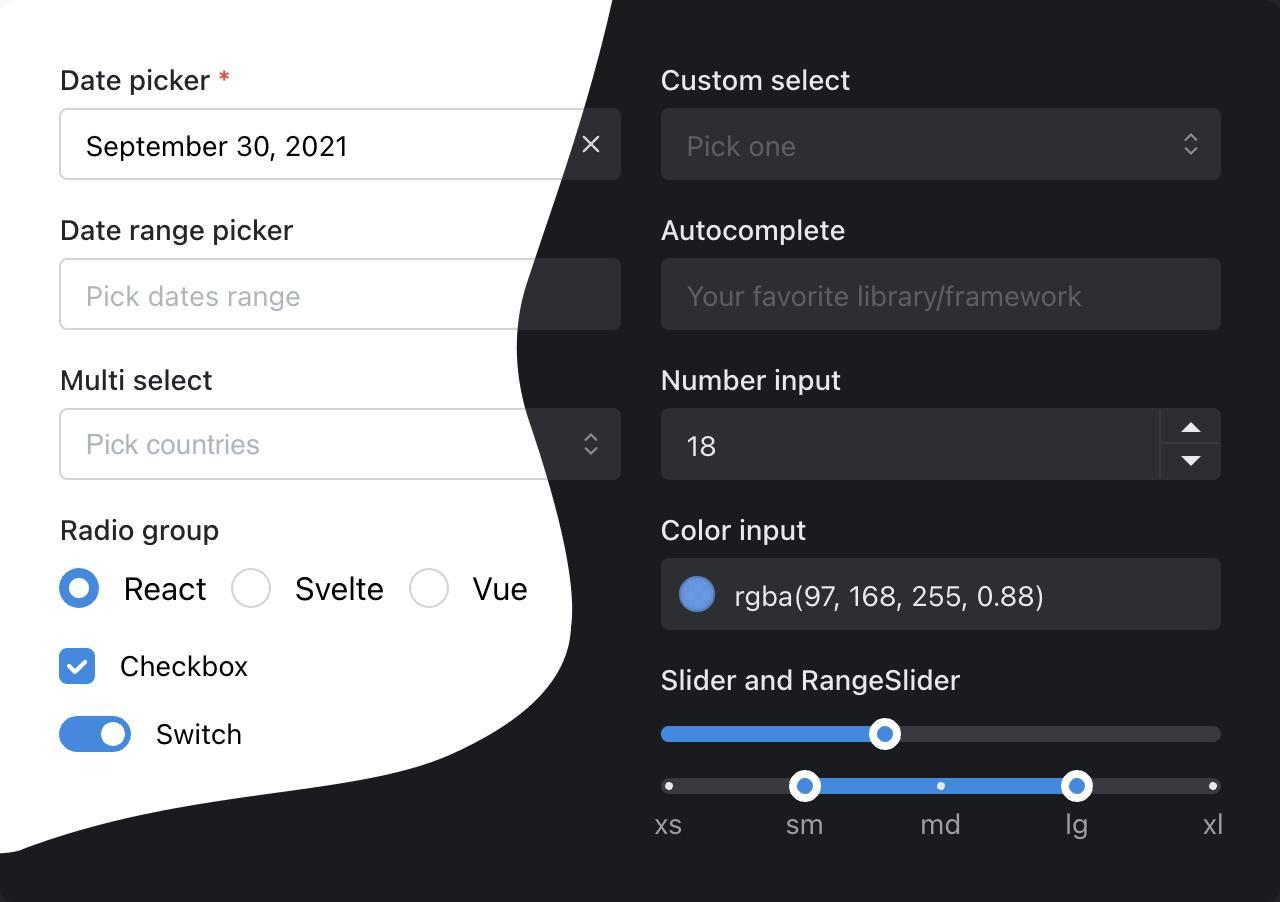button: (1165, 446, 1227, 482), (1164, 410, 1227, 444)
checkbox: (59, 649, 98, 686)
dropdown: (57, 405, 624, 484), (664, 104, 1220, 183)
input: (64, 111, 620, 185), (61, 260, 617, 332), (662, 265, 1225, 335), (664, 406, 1160, 485)
label: (661, 664, 969, 705), (47, 59, 244, 101), (661, 62, 857, 102), (60, 220, 296, 252), (657, 365, 851, 401), (52, 360, 217, 401), (654, 514, 822, 551), (656, 219, 851, 250), (121, 647, 261, 684), (55, 521, 226, 551), (121, 572, 212, 607), (294, 575, 386, 609), (155, 716, 242, 749), (469, 574, 534, 607)
radio: (50, 566, 114, 616), (225, 562, 285, 612), (401, 565, 461, 615)
slider: (659, 719, 1225, 756), (653, 770, 1227, 806)
switch: (55, 711, 136, 756)
